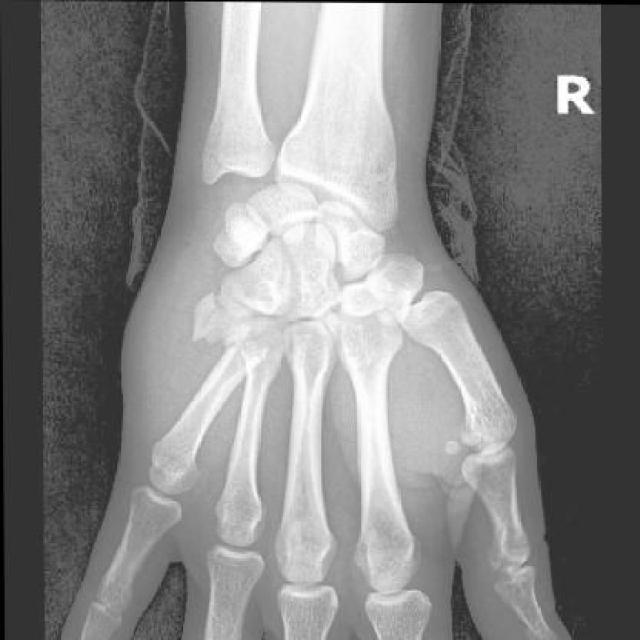Fracture: (189, 289, 284, 368)
